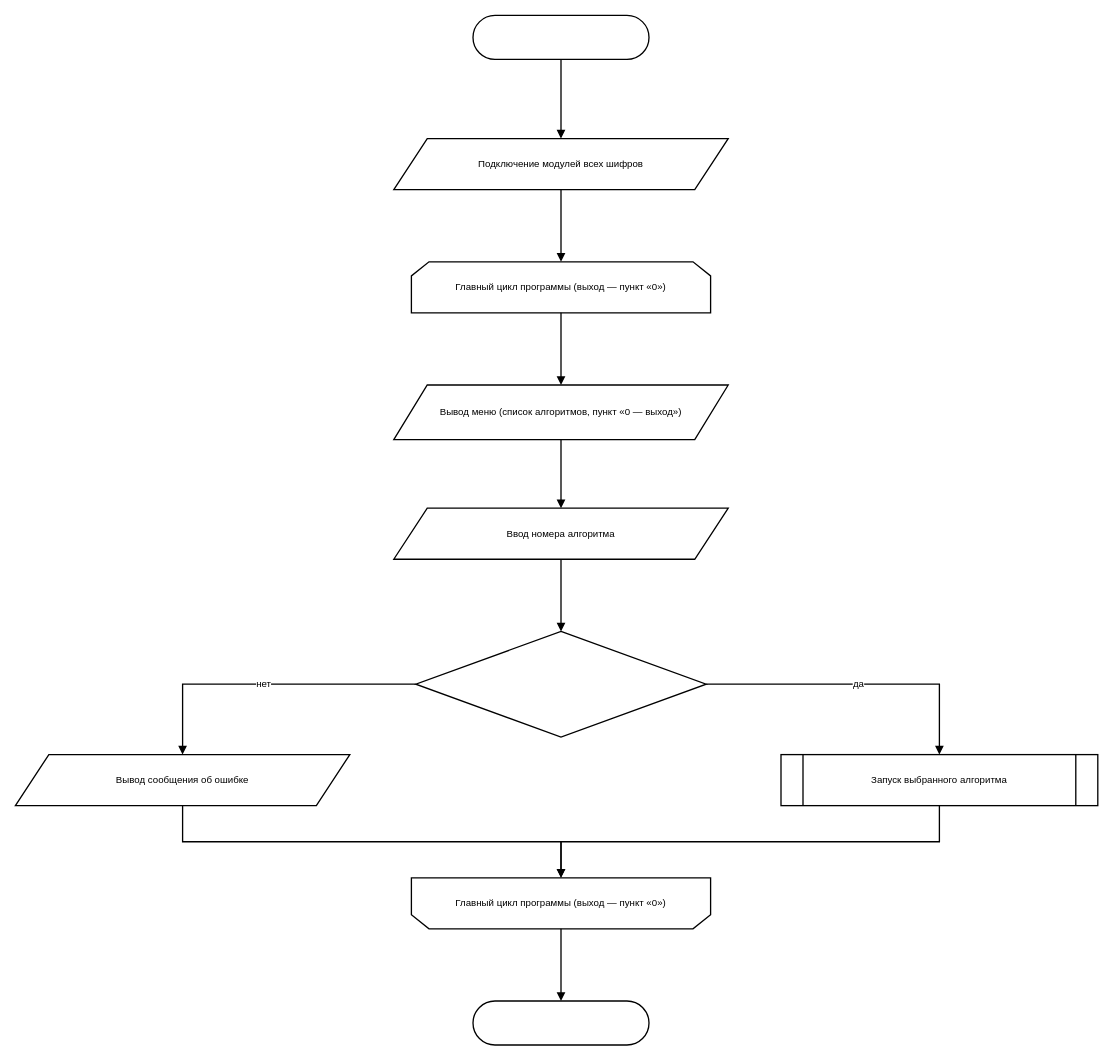
This 1114x1061 diagram has some shape labels left out. Here are the shapes that lost their labels. From the top down, the centre of each, then its label:
At [560,37]: "начало".
At [560,683]: "Номер есть в списке?".
At [560,1022]: "конец".
